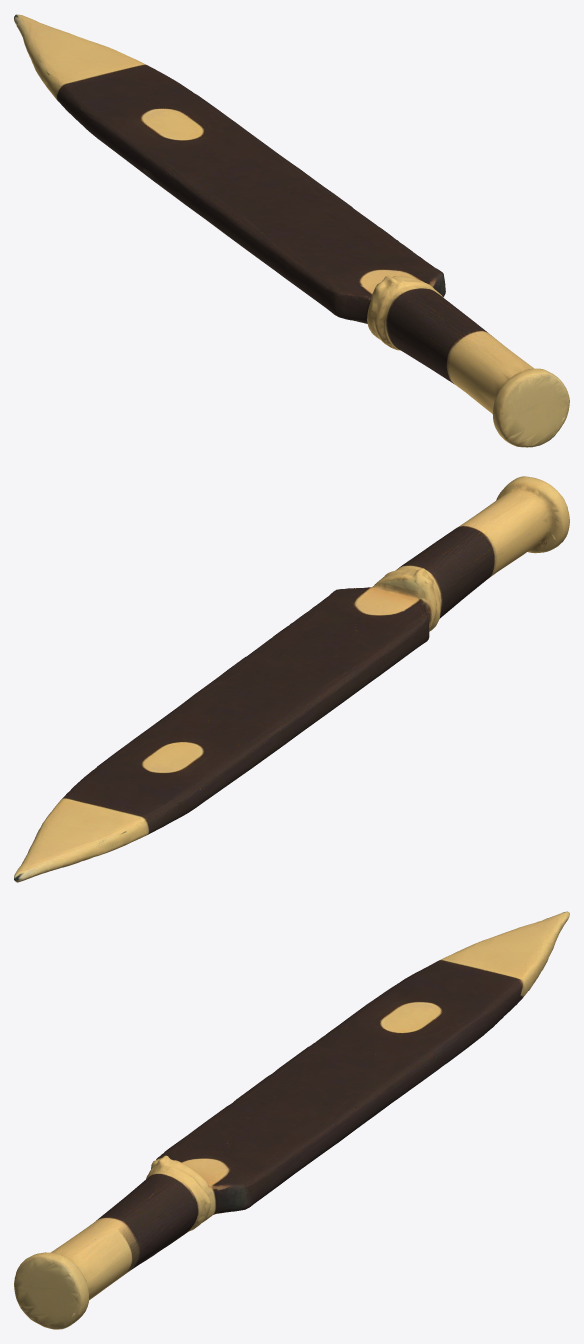
File: knife.glb
3 views of the same model, one above another, from view 1: azimuth 30°, elevation 25°; view 2: azimuth 150°, elevation 25°; view 3: azimuth 330°, elevation 25° (orthographic). The views are drawn at different scales.
Visible parts, largest first — view 1: Mesh_0; view 2: Mesh_0; view 3: Mesh_0.
Boxes of the visible parts, <box> form: Mesh_0: <box>14,14,569,447</box>; Mesh_0: <box>14,476,569,882</box>; Mesh_0: <box>14,911,569,1329</box>.
Size of the model in its own units: 0.236 by 0.1595 by 2.
1 material, 1 textured.
